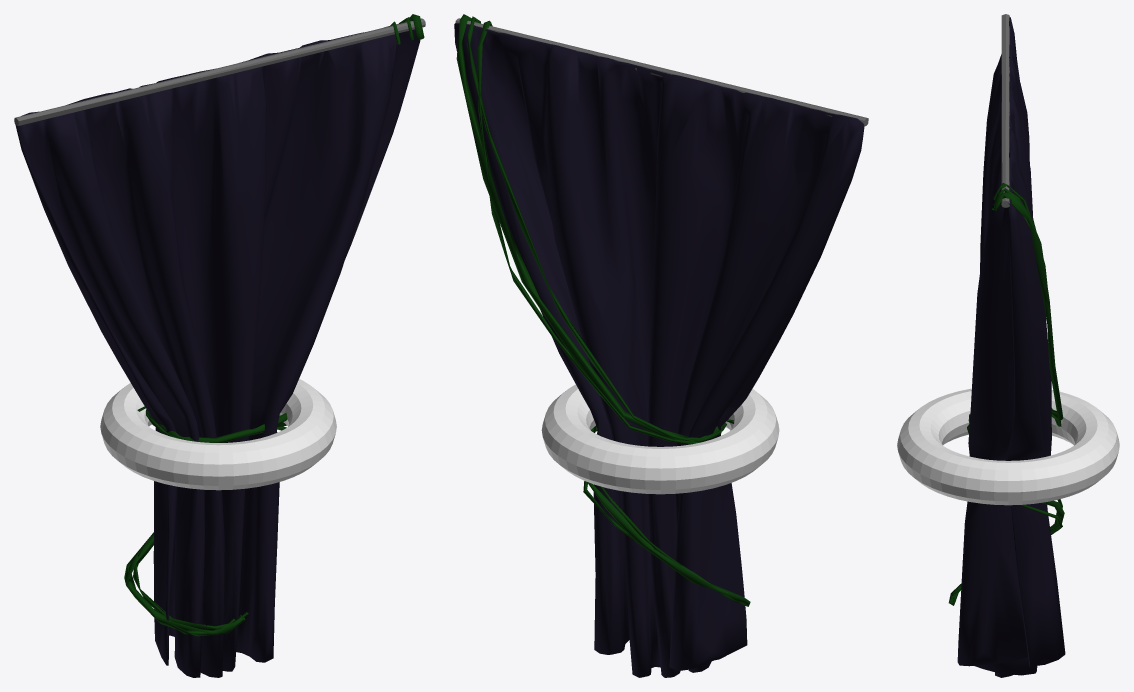
File: curtain.fbx
3 renders of one model, left to right at view 1: azimuth 30°, elevation 25°; view 2: azimuth 150°, elevation 25°; view 3: azimuth 270°, elevation 25°, orthographic. The views are drawn at different scales.
Visible parts, largest first — view 1: Grid, Torus, constraint 1, BezierCurve.001, BezierCurve.002; view 2: Grid, Torus, BezierCurve.001, BezierCurve, BezierCurve.002, constraint 1; view 3: Grid, Torus, BezierCurve.001, constraint 1, BezierCurve.002.
Part boxes in pixels (left/top/right/bottom): Grid: left=15, top=22, right=420, bottom=677; Torus: left=100, top=379, right=336, bottom=490; constraint 1: left=14, top=18, right=425, bottom=125; BezierCurve.001: left=124, top=14, right=424, bottom=636; BezierCurve.002: left=133, top=21, right=400, bottom=629; Grid: left=454, top=23, right=864, bottom=677; Torus: left=541, top=384, right=779, bottom=494; BezierCurve.001: left=456, top=14, right=750, bottom=606; BezierCurve: left=467, top=16, right=728, bottom=594; BezierCurve.002: left=477, top=20, right=739, bottom=602; constraint 1: left=455, top=18, right=868, bottom=126; Grid: left=957, top=17, right=1065, bottom=677; Torus: left=897, top=388, right=1119, bottom=505; BezierCurve.001: left=948, top=192, right=1064, bottom=605; constraint 1: left=1001, top=14, right=1009, bottom=207; BezierCurve.002: left=951, top=183, right=1062, bottom=601.
Size of the model in its own units: 142 by 202 by 71.34.
